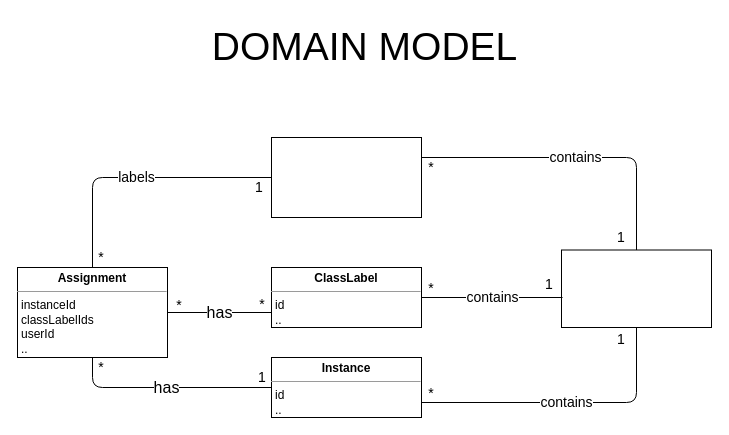
The diagram is 729 pixels wide and 435 high, and some of its shapes have lost their labels. Each missing label, with the centre of its shape:
Dataset id name ..: point 636,288
User id name ..: point 346,177
